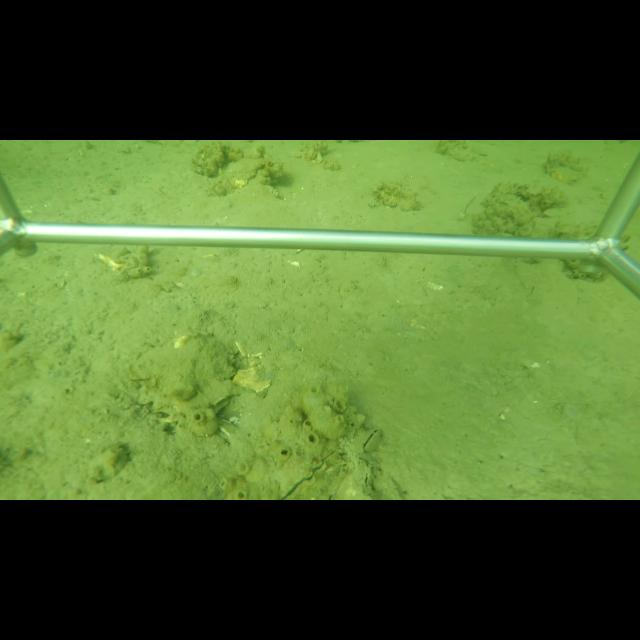Oyster-Open: (278, 444, 341, 499)
